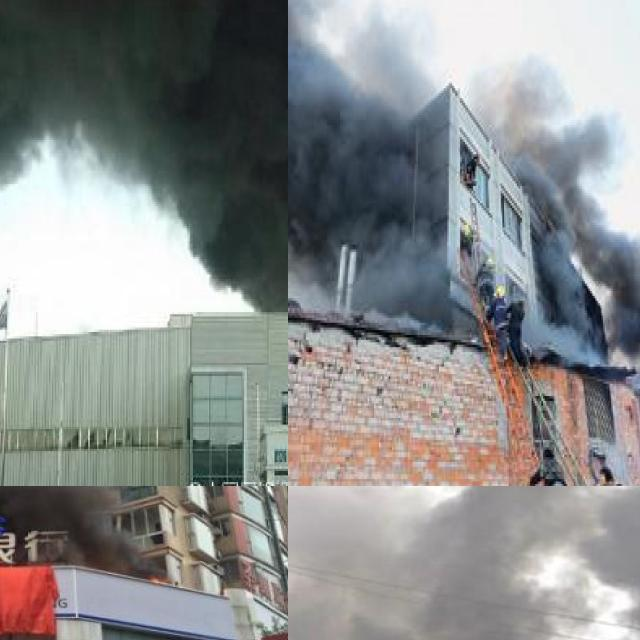smoke: (288, 0, 640, 376), (0, 0, 288, 314), (288, 486, 640, 640), (0, 486, 136, 572)
